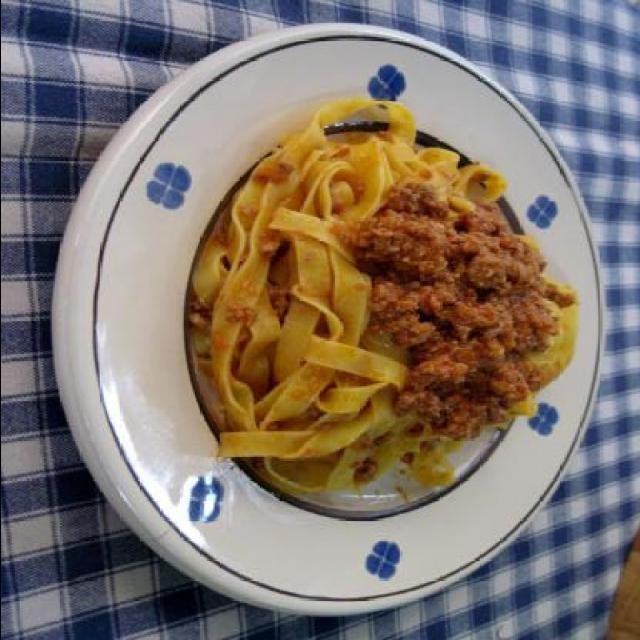Pasta al ragu: (174, 95, 602, 531)
